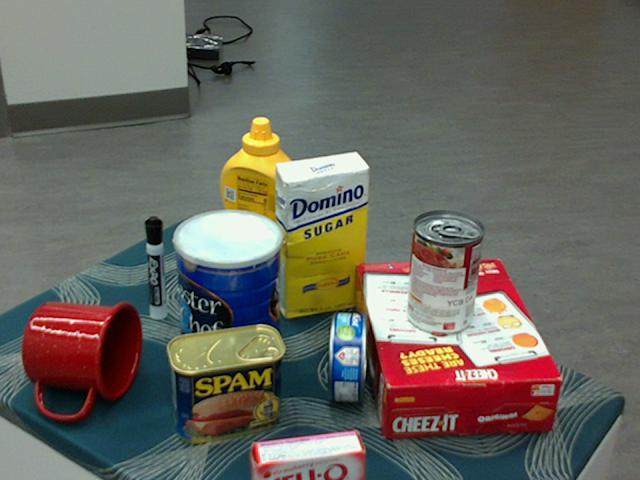cracker_box: (352, 261, 562, 435)
gelatin_box: (248, 430, 362, 479)
large_marker: (144, 215, 164, 319)
master_chef_can: (174, 210, 282, 384)
mug: (22, 300, 142, 419)
mustard_bottle: (219, 117, 301, 286)
potted_meat_can: (166, 324, 285, 442)
sugar_box: (274, 153, 369, 319)
tomato_soup_can: (405, 212, 483, 336)
tuna_fish_can: (329, 312, 367, 402)
